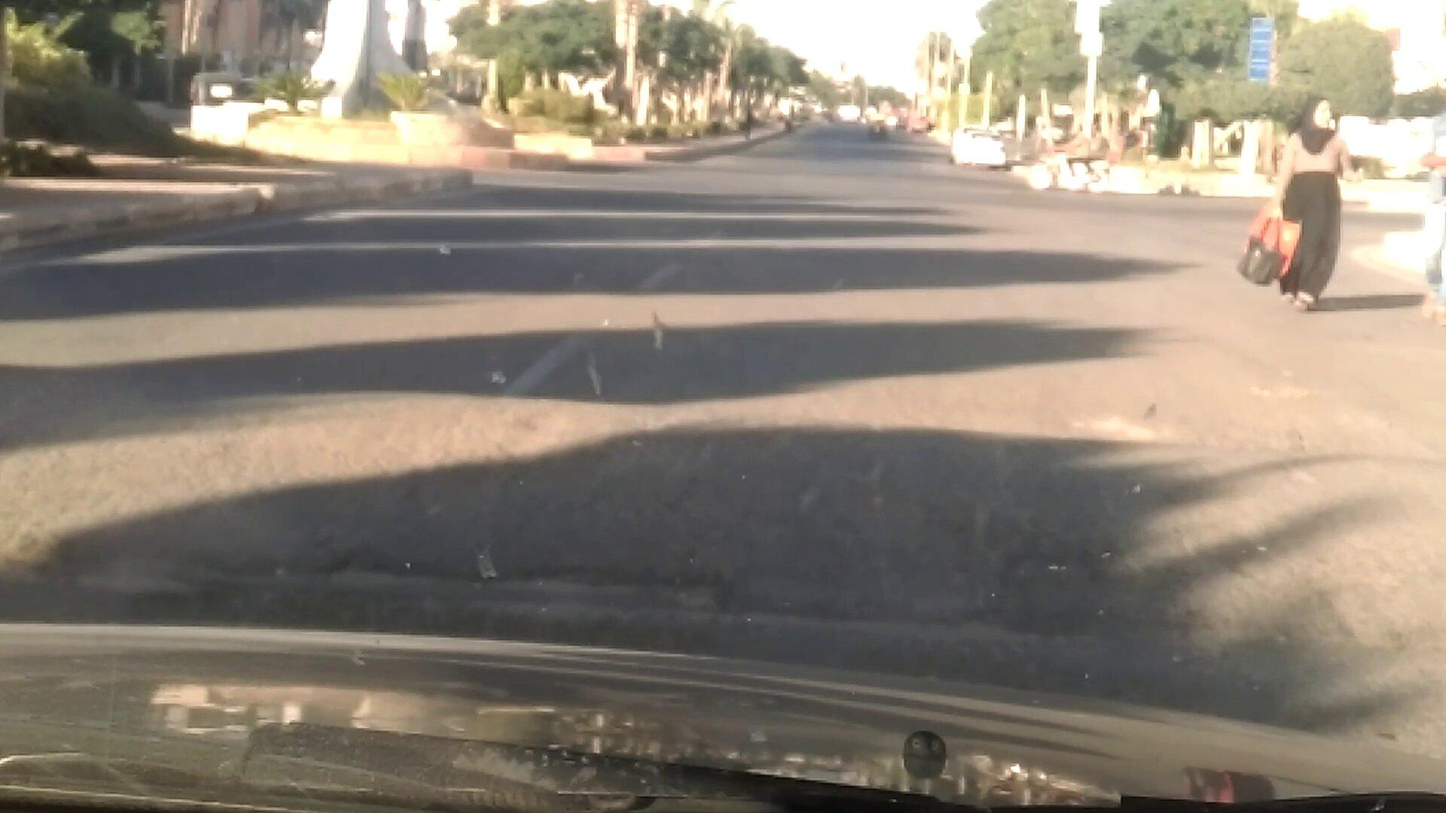Pothole: (177, 540, 1239, 668)
